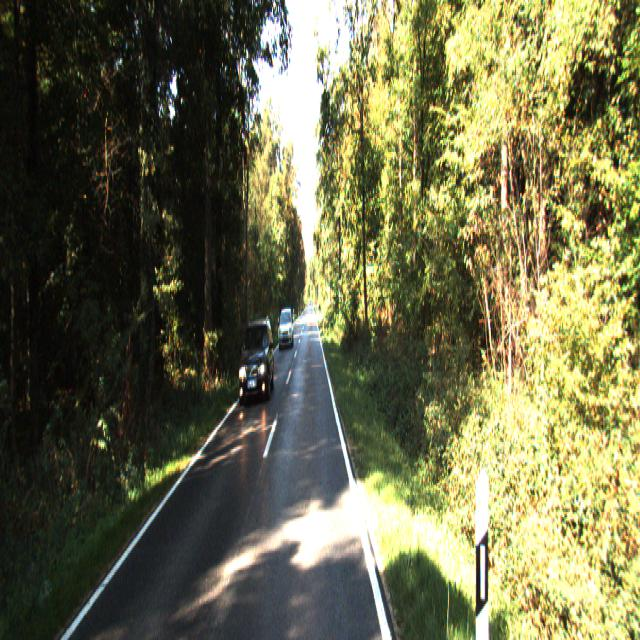Car: (236, 316, 276, 410), (277, 309, 294, 350)
